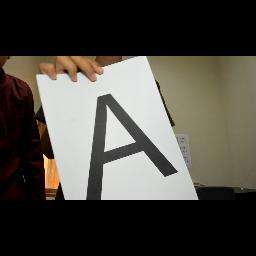a: (66, 86, 190, 200)
